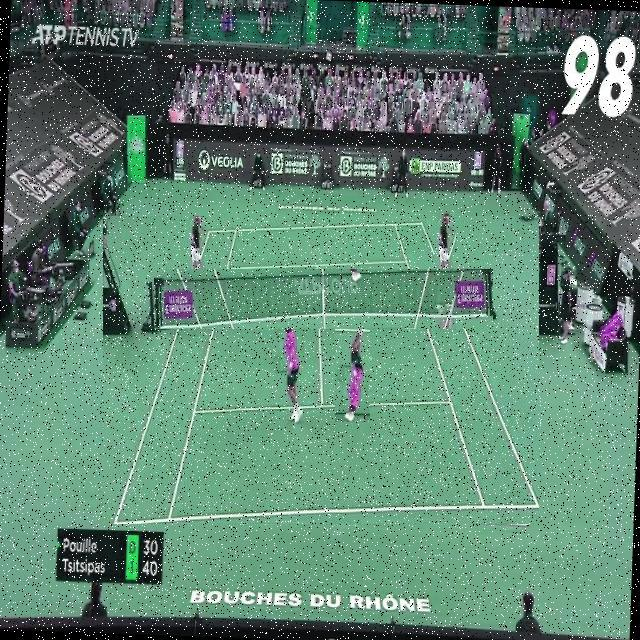court: (103, 216, 539, 524)
net: (154, 269, 493, 329)
player: (336, 316, 372, 422), (434, 211, 456, 296)
